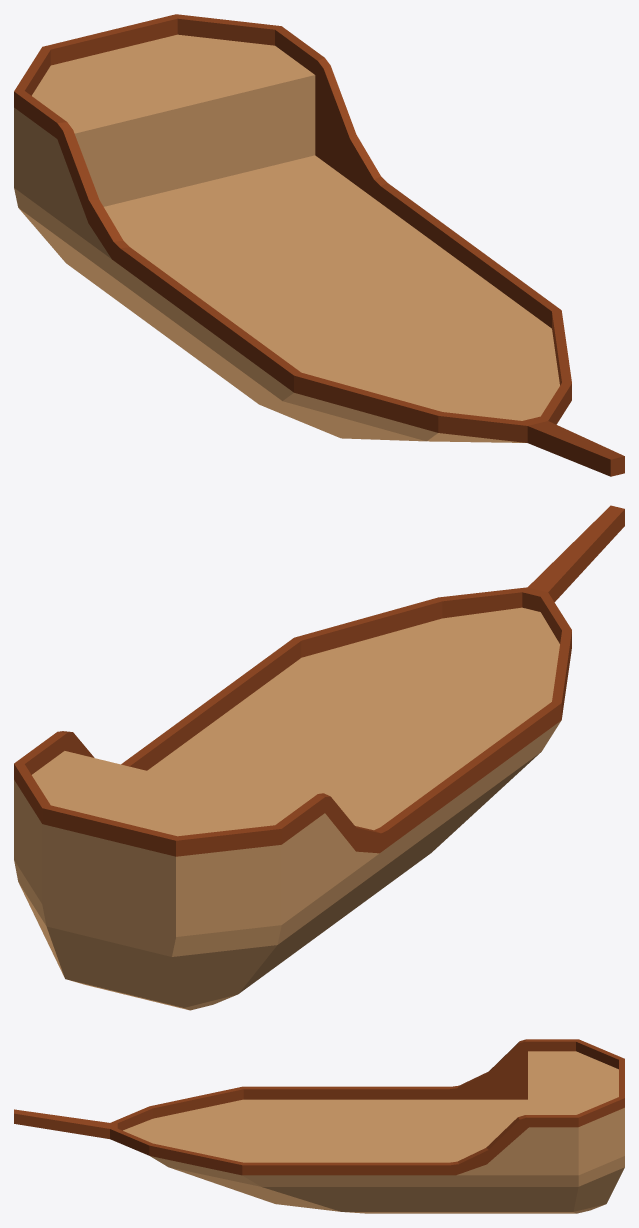
The model's file is Ship2CollisionMesh.fbx.
3 renders of one model, top to bottom at view 1: azimuth 30°, elevation 25°; view 2: azimuth 150°, elevation 25°; view 3: azimuth 270°, elevation 25°, orthographic. The views are drawn at different scales.
Visible parts, largest first — view 1: Wheel.001; view 2: Wheel.001; view 3: Wheel.001.
Part boxes in pixels (x1=…): Wheel.001: x1=14, y1=14, x2=624, y2=476; Wheel.001: x1=14, y1=505, x2=624, y2=1010; Wheel.001: x1=14, y1=1039, x2=624, y2=1213.
Bounding box in the file's own units: 4 × 2.77 × 13.16.
